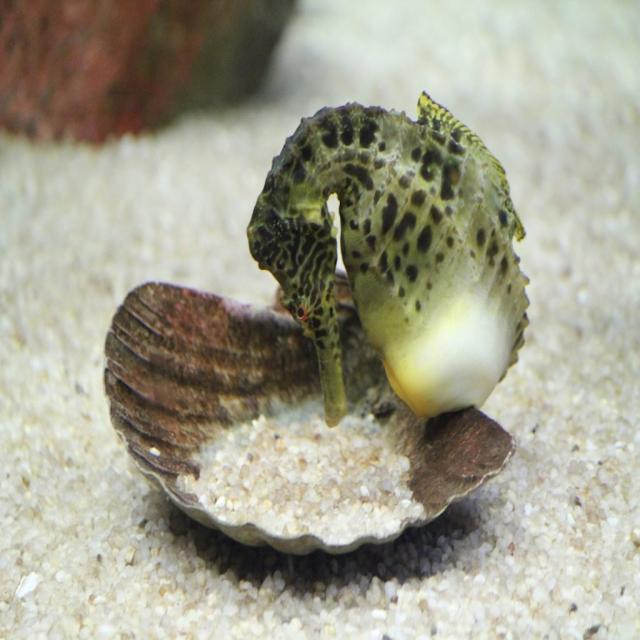seahorse: (247, 93, 528, 425)
